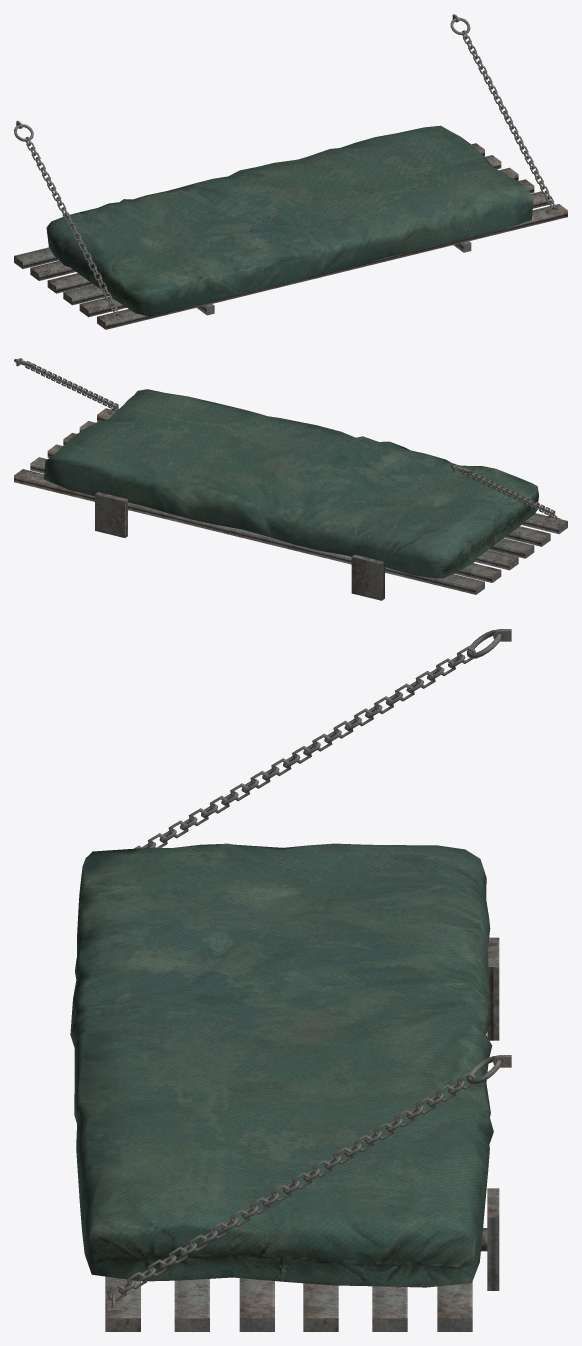
The model's file is 165_PrisonCellBed.fbx.
The picture shows the model from 3 angles, top to bottom: view 1: azimuth 30°, elevation 25°; view 2: azimuth 150°, elevation 25°; view 3: azimuth 270°, elevation 25°; orthographic projection. The views are drawn at different scales.
Visible parts, largest first — view 1: LOD_1_Group_0_Sub_1__sm30_165_PrisonCellBed01A_A_Mat; view 2: LOD_1_Group_0_Sub_1__sm30_165_PrisonCellBed01A_A_Mat; view 3: LOD_1_Group_0_Sub_1__sm30_165_PrisonCellBed01A_A_Mat.
Boxes of the visible parts, x1,y1,x2,y2 form: LOD_1_Group_0_Sub_1__sm30_165_PrisonCellBed01A_A_Mat: [14, 14, 567, 329]; LOD_1_Group_0_Sub_1__sm30_165_PrisonCellBed01A_A_Mat: [14, 358, 567, 600]; LOD_1_Group_0_Sub_1__sm30_165_PrisonCellBed01A_A_Mat: [70, 629, 511, 1331].
Size of the model in its own units: 1.8 by 0.5732 by 0.7441.
